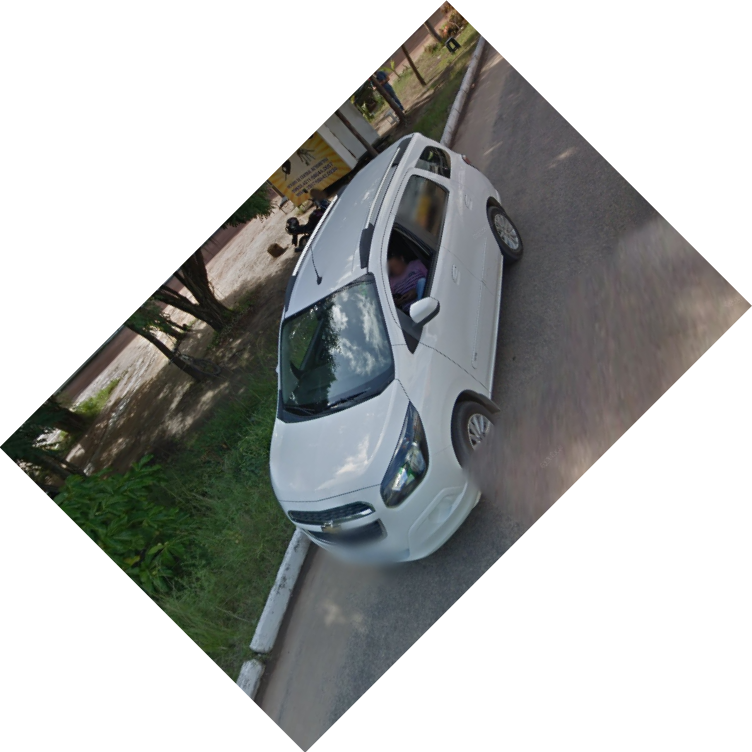car: (267, 128, 526, 580)
